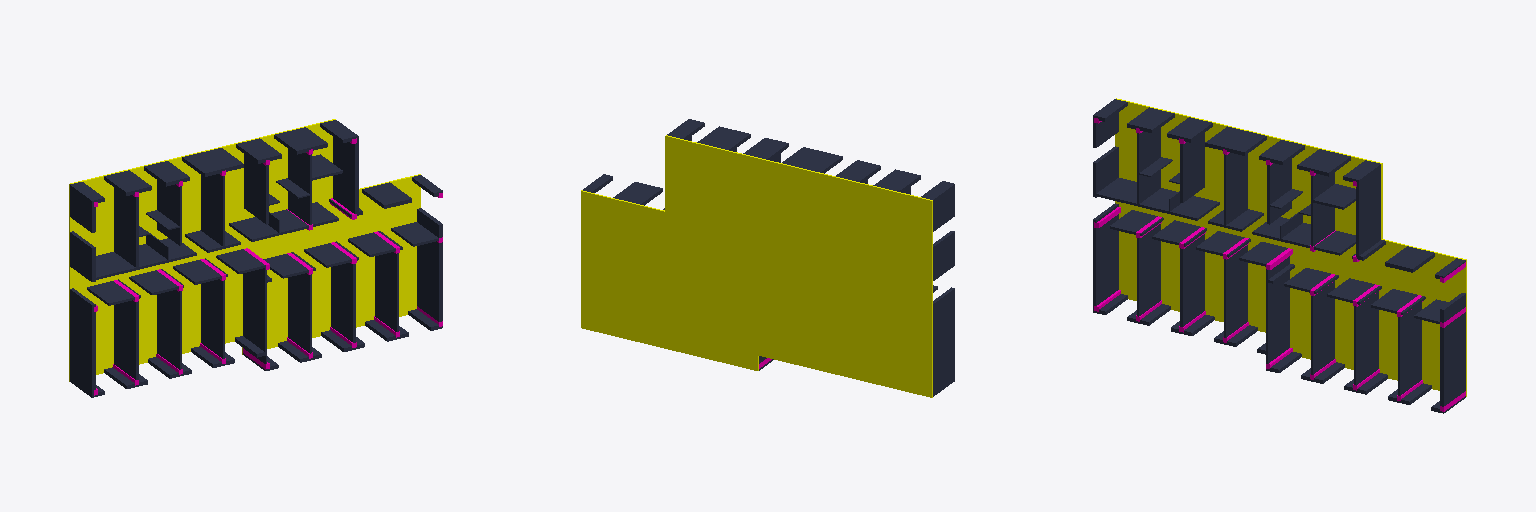
File: external.obj
3 renders of one model, left to right at view 1: azimuth 30°, elevation 25°; view 2: azimuth 150°, elevation 25°; view 3: azimuth 330°, elevation 25°, orthographic.
Parts seen in each view (by area): view 1: Model_Space-51, Model_Space-44, Model_Space-1, Model_Space-34, Model_Space-37, Model_Space-49, Model_Space-45, Model_Space-6, Model_Space-17, Model_Space-4, Model_Space-27, Model_Space-14 (+21 smaller); view 2: Model_Space-51, Model_Space-1, Model_Space-42, Model_Space-38, Model_Space-43, Model_Space-50, Model_Space-11, Model_Space-40, Model_Space-39, Model_Space-48; view 3: Model_Space-51, Model_Space-44, Model_Space-49, Model_Space-1, Model_Space-34, Model_Space-45, Model_Space-37, Model_Space-6, Model_Space-17, Model_Space-27, Model_Space-14, Model_Space-20 (+21 smaller).
Part boxes in pixels (bbox=[...]): Model_Space-51: bbox=[69, 119, 420, 381]; Model_Space-44: bbox=[96, 188, 196, 279]; Model_Space-1: bbox=[70, 288, 104, 397]; Model_Space-34: bbox=[235, 268, 271, 363]; Model_Space-37: bbox=[276, 149, 342, 224]; Model_Space-49: bbox=[320, 120, 362, 215]; Model_Space-45: bbox=[185, 174, 240, 252]; Model_Space-6: bbox=[417, 241, 442, 321]; Model_Space-17: bbox=[331, 263, 355, 342]; Model_Space-4: bbox=[114, 300, 138, 379]; Model_Space-27: bbox=[157, 290, 181, 369]; Model_Space-14: bbox=[375, 252, 398, 331]; Model_Space-51: bbox=[581, 135, 932, 397]; Model_Space-1: bbox=[933, 287, 954, 396]; Model_Space-42: bbox=[921, 181, 954, 231]; Model_Space-38: bbox=[782, 147, 842, 173]; Model_Space-43: bbox=[933, 231, 954, 280]; Model_Space-50: bbox=[697, 126, 750, 150]; Model_Space-11: bbox=[613, 182, 662, 205]; Model_Space-40: bbox=[873, 169, 920, 192]; Model_Space-39: bbox=[836, 160, 880, 182]; Model_Space-48: bbox=[743, 138, 788, 160]; Model_Space-51: bbox=[1115, 98, 1466, 396]; Model_Space-44: bbox=[1096, 128, 1219, 220]; Model_Space-49: bbox=[1343, 160, 1385, 260]; Model_Space-1: bbox=[1093, 203, 1127, 314]; Model_Space-34: bbox=[1257, 256, 1294, 363]; Model_Space-45: bbox=[1208, 153, 1263, 231]; Model_Space-37: bbox=[1299, 172, 1355, 246]; Model_Space-6: bbox=[1440, 312, 1465, 406]; Model_Space-17: bbox=[1354, 291, 1378, 385]; Model_Space-27: bbox=[1180, 234, 1204, 326]; Model_Space-14: bbox=[1398, 302, 1421, 395]; Model_Space-20: bbox=[1311, 281, 1334, 374].
Size of the model in its own units: 29098 by 16850 by 3350.